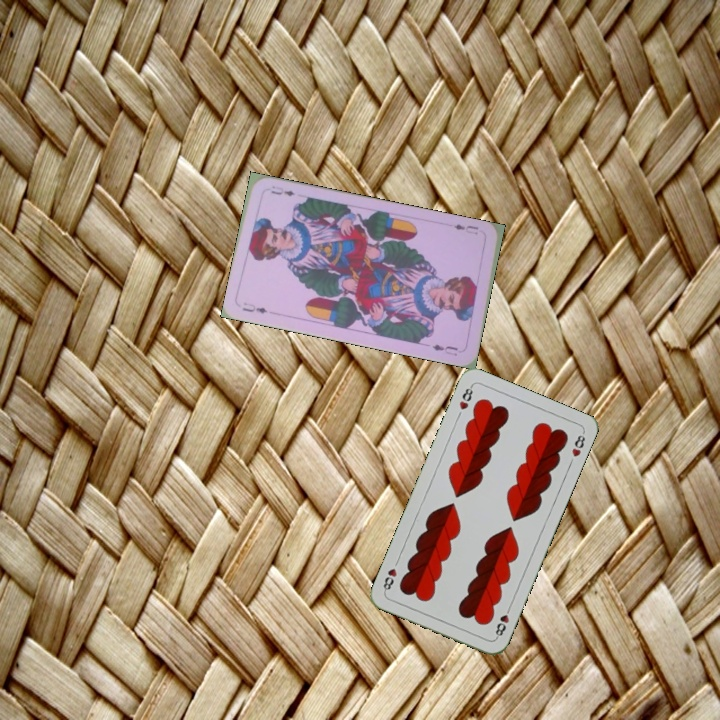EU: (238, 298, 270, 316), (450, 220, 481, 237)
H8: (491, 602, 513, 641), (455, 381, 476, 412)
